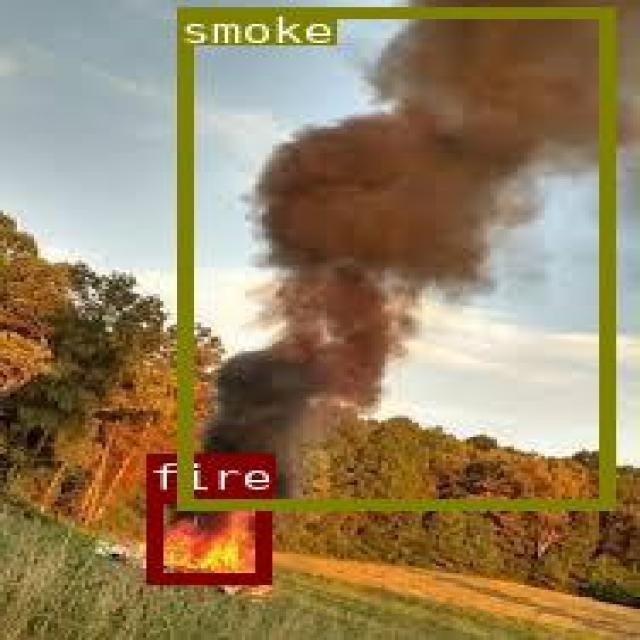fire: (146, 492, 266, 581)
smoke: (176, 7, 612, 507)
